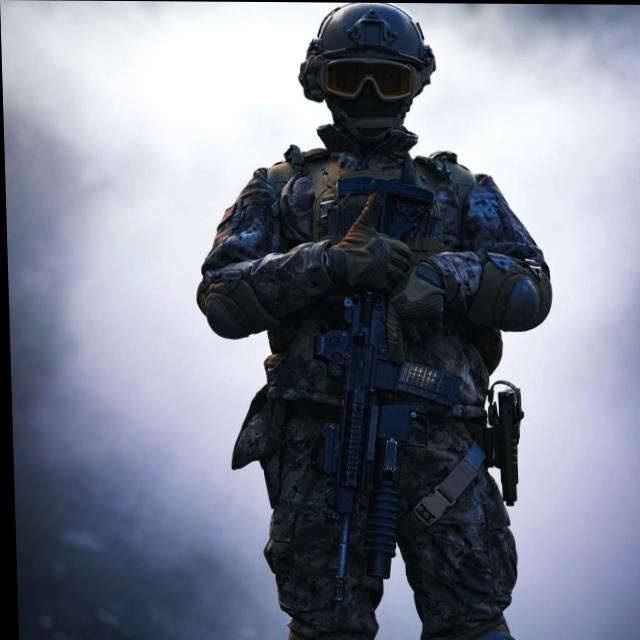poh_personel: (188, 1, 557, 640)
